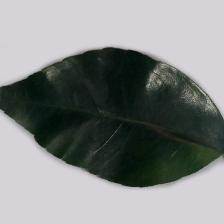healthy: (14, 58, 224, 198)
